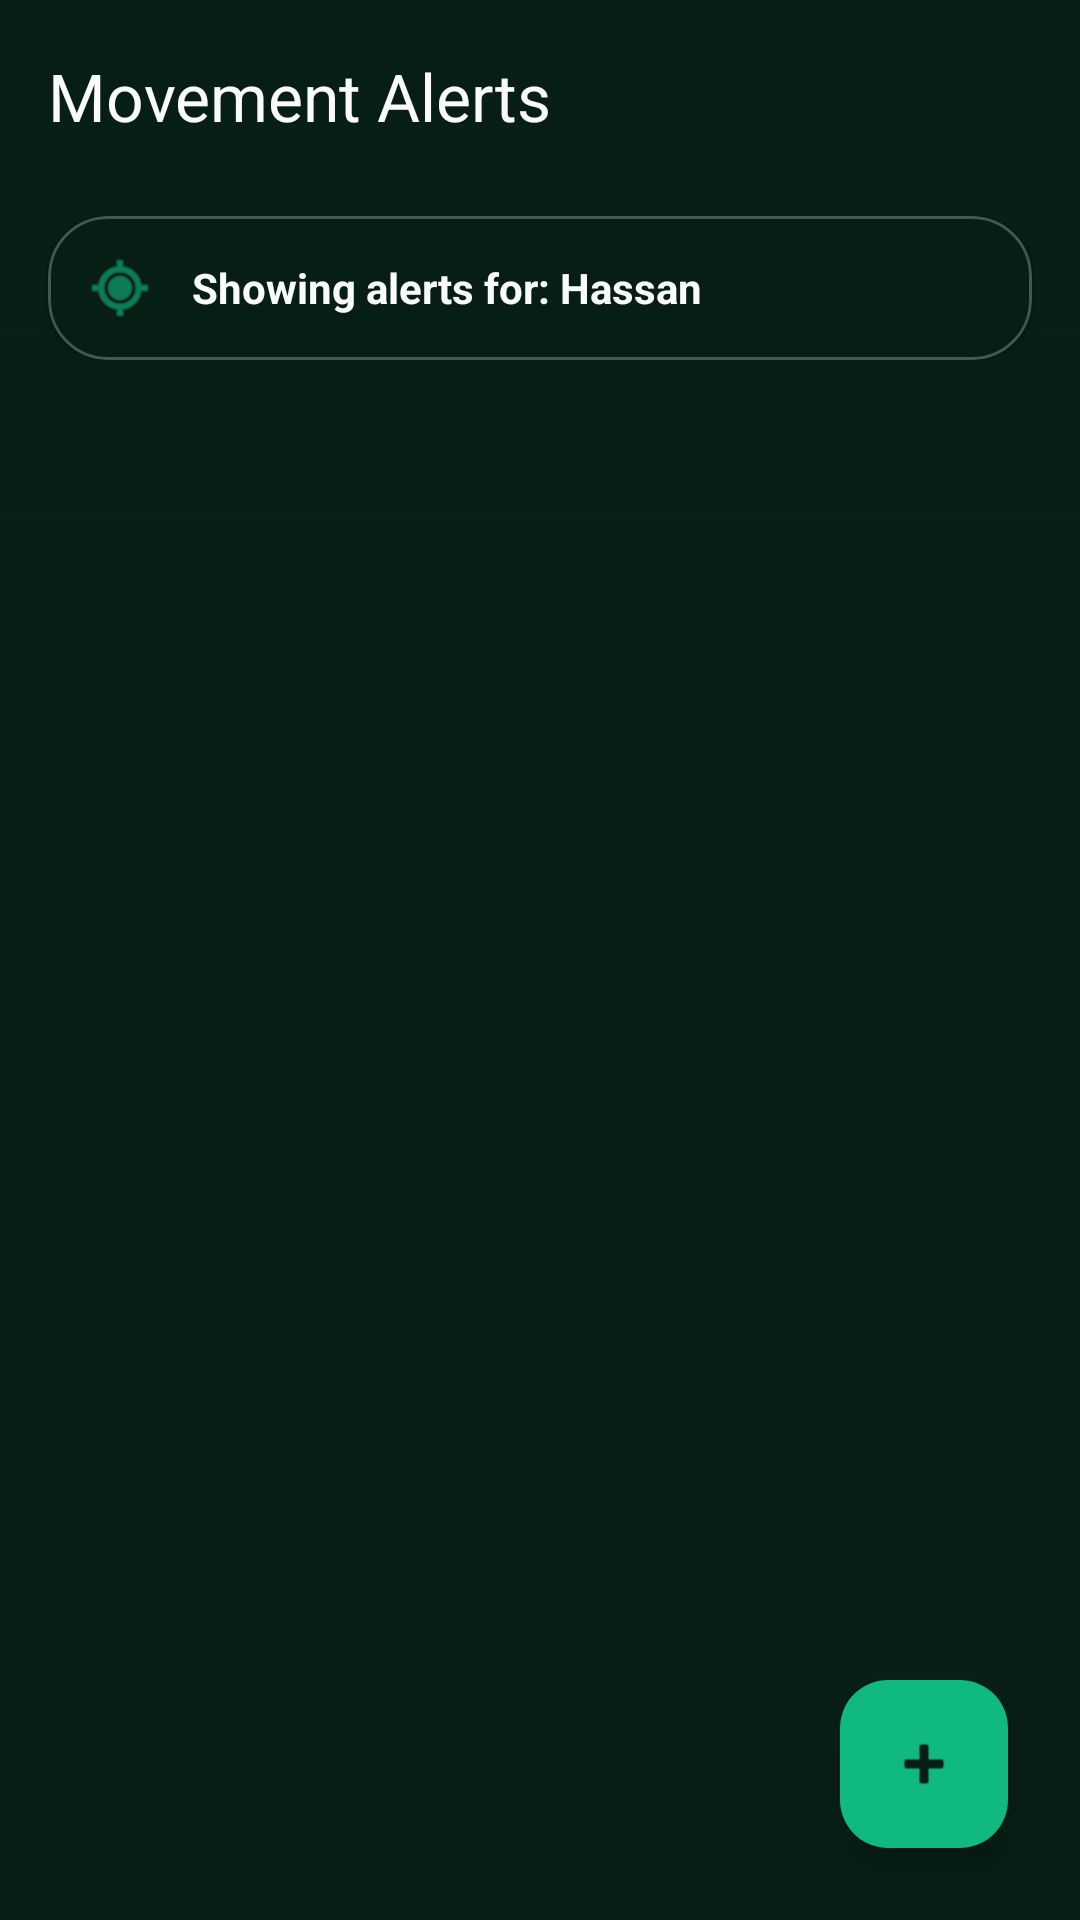

Icon click points for this 1080 x 1920 phone screenshot, format point (x, y):
mylocation: point (120, 288)
